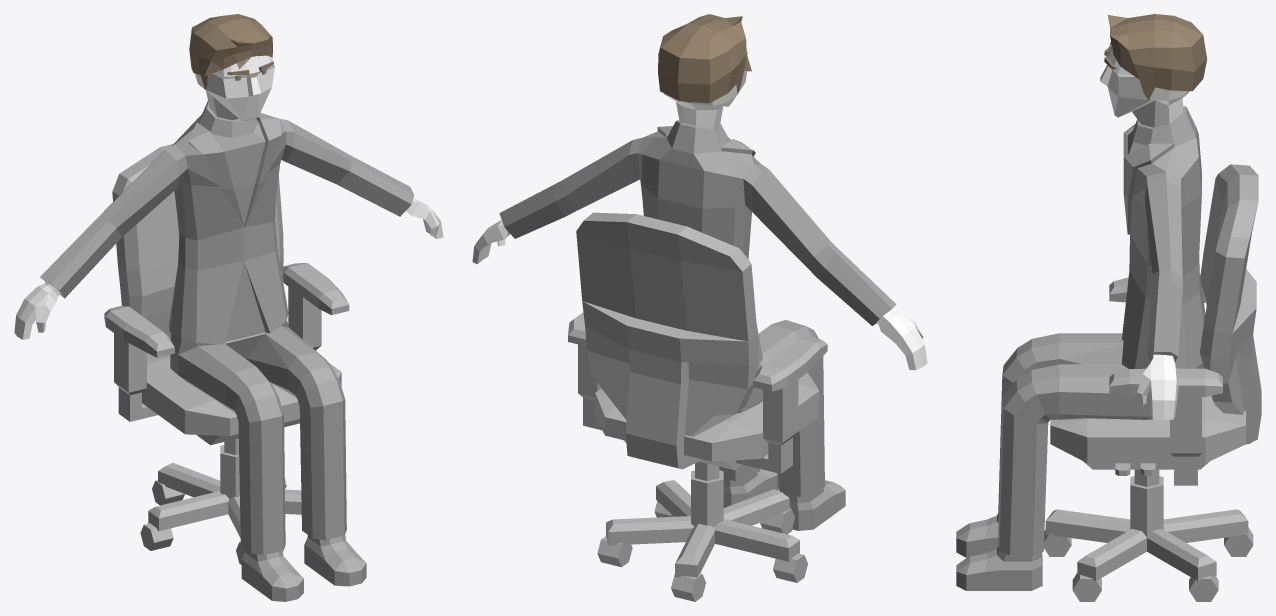
The model's file is sm_worker.fbx.
The picture shows the model from 3 angles, left to right: view 1: azimuth 30°, elevation 25°; view 2: azimuth 150°, elevation 25°; view 3: azimuth 270°, elevation 25°; orthographic projection. The views are drawn at different scales.
Visible parts, largest first — view 1: worker_int, chair_int; view 2: chair_int, worker_int; view 3: worker_int, chair_int.
Part boxes in pixels (bbox=[...]): worker_int: bbox=[14, 14, 443, 601]; chair_int: bbox=[104, 144, 349, 564]; chair_int: bbox=[568, 212, 827, 601]; worker_int: bbox=[472, 14, 927, 530]; worker_int: bbox=[956, 14, 1207, 590]; chair_int: bbox=[1044, 164, 1261, 601].
Size of the model in its own units: 134 by 153 by 77.38.
